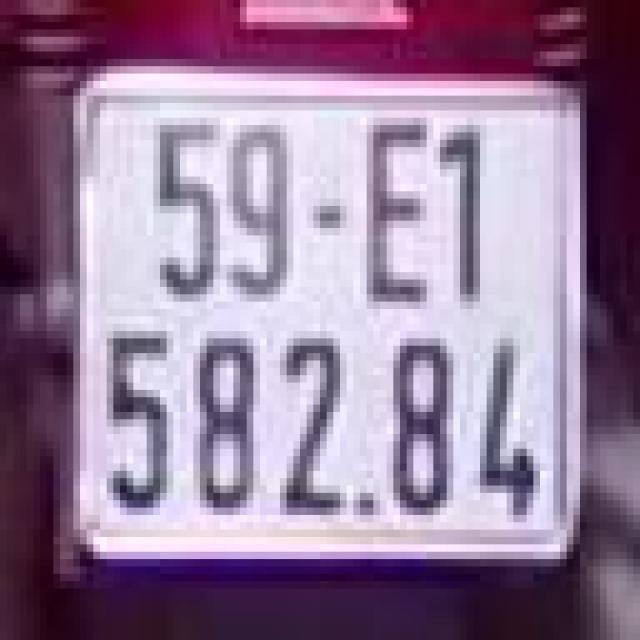1: (427, 110, 493, 309)
2: (276, 327, 356, 519)
4: (466, 331, 546, 537)
5: (87, 309, 180, 530), (144, 107, 224, 320)
8: (190, 313, 270, 511), (374, 328, 454, 512)
9: (220, 106, 300, 312)
E: (356, 103, 436, 331)
